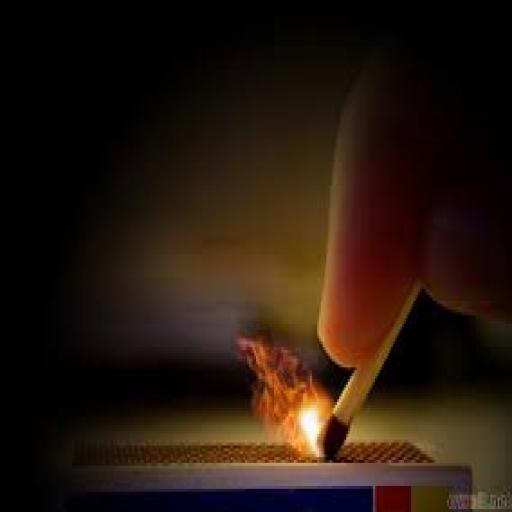fire: (234, 321, 357, 480)
